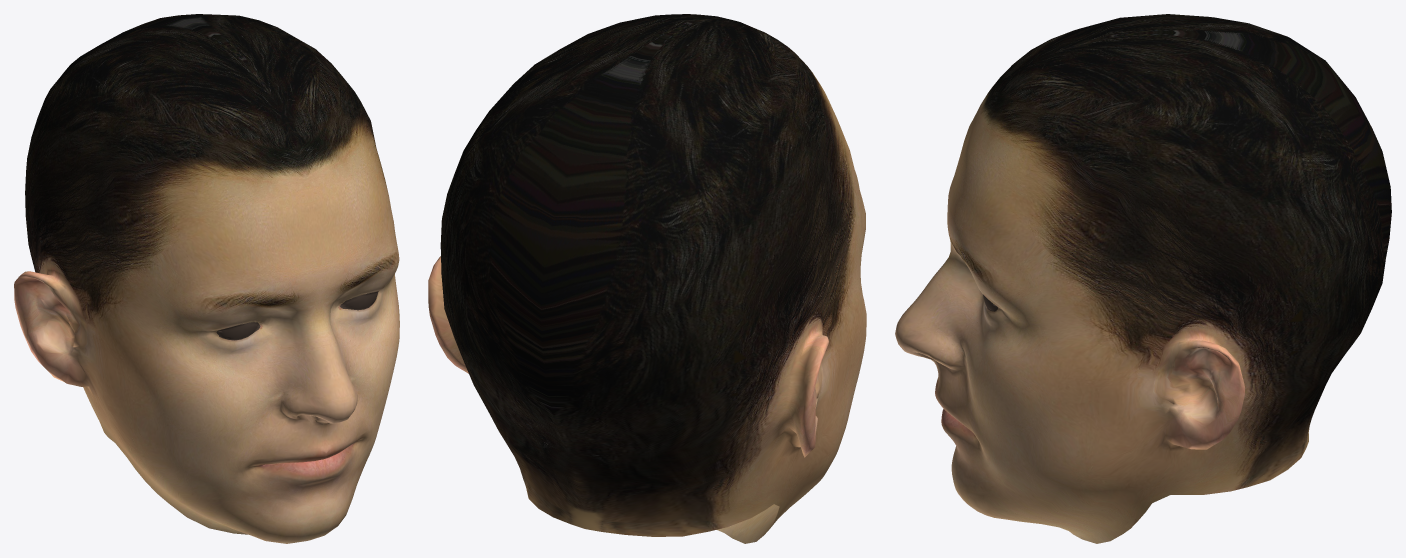
The model's file is MatchGeometry.FBX.
The picture shows the model from 3 angles, left to right: view 1: azimuth 30°, elevation 25°; view 2: azimuth 150°, elevation 25°; view 3: azimuth 270°, elevation 25°; orthographic projection. The views are drawn at different scales.
Visible parts, largest first — view 1: head001; view 2: head001; view 3: head001.
Part boxes in pixels (x1,y1,x2,y2): head001: [14, 14, 399, 543]; head001: [428, 14, 866, 543]; head001: [895, 14, 1391, 543].
Size of the model in its own units: 180 by 233 by 211.
